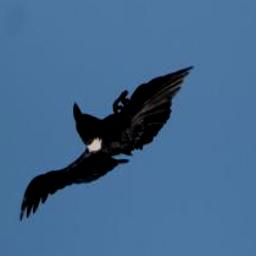Crow: (18, 67, 196, 226)
